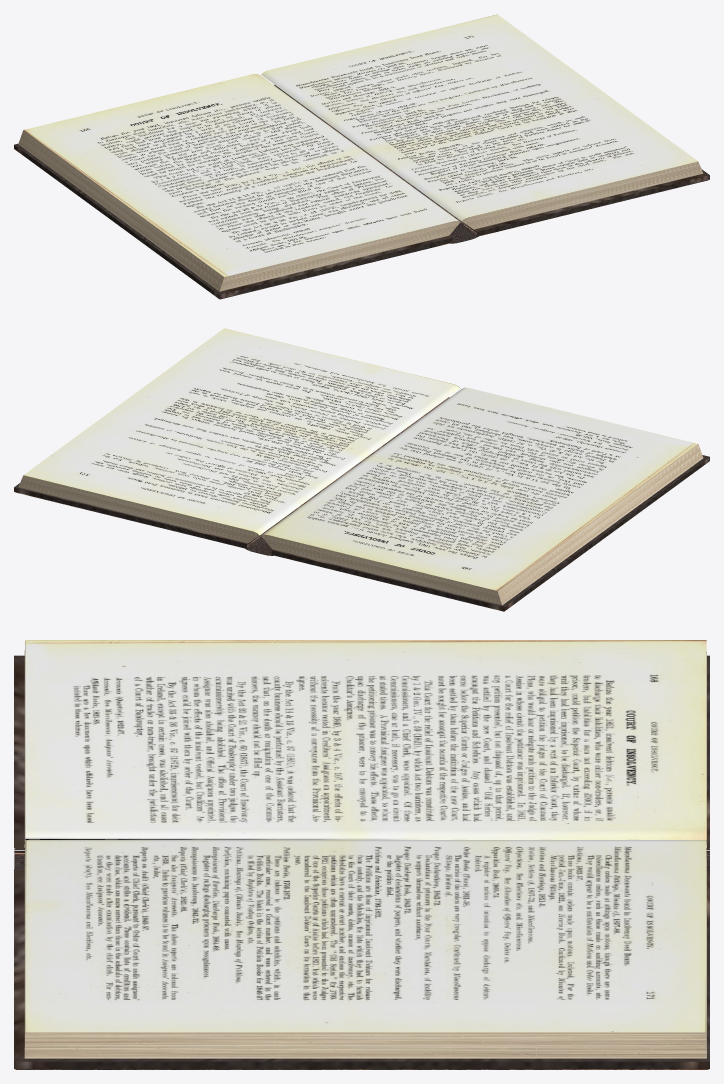
File: book_reexport.glb
The picture shows the model from 3 angles, top to bottom: view 1: azimuth 30°, elevation 25°; view 2: azimuth 150°, elevation 25°; view 3: azimuth 270°, elevation 25°; orthographic projection. The views are drawn at different scales.
Visible parts, largest first — view 1: Book_right_primitive1, Book_Left_primitive1, Book_Left_primitive0, Book_right_primitive0, Spine; view 2: Book_right_primitive1, Book_Left_primitive1, Book_Left_primitive0, Book_right_primitive0, Spine; view 3: Book_Left_primitive1, Book_right_primitive1, Book_right_primitive0, Book_Left_primitive0.
Boxes of the visible parts, x1=… form: Book_right_primitive1: x1=261, y1=14, x2=697, y2=221; Book_Left_primitive1: x1=23, y1=74, x2=459, y2=276; Book_Left_primitive0: x1=14, y1=130, x2=460, y2=299; Book_right_primitive0: x1=462, y1=161, x2=709, y2=236; Spine: x1=274, y1=85, x2=479, y2=243; Book_right_primitive1: x1=24, y1=328, x2=460, y2=535; Book_Left_primitive1: x1=261, y1=387, x2=697, y2=590; Book_Left_primitive0: x1=261, y1=444, x2=709, y2=611; Book_right_primitive0: x1=14, y1=475, x2=259, y2=548; Spine: x1=244, y1=397, x2=449, y2=555; Book_Left_primitive1: x1=25, y1=640, x2=706, y2=839; Book_right_primitive1: x1=25, y1=840, x2=706, y2=1032; Book_right_primitive0: x1=14, y1=841, x2=709, y2=1069; Book_Left_primitive0: x1=14, y1=641, x2=709, y2=848.
Size of the model in its own units: 0.414 by 0.0163 by 0.3.
3 materials, 3 textured.
